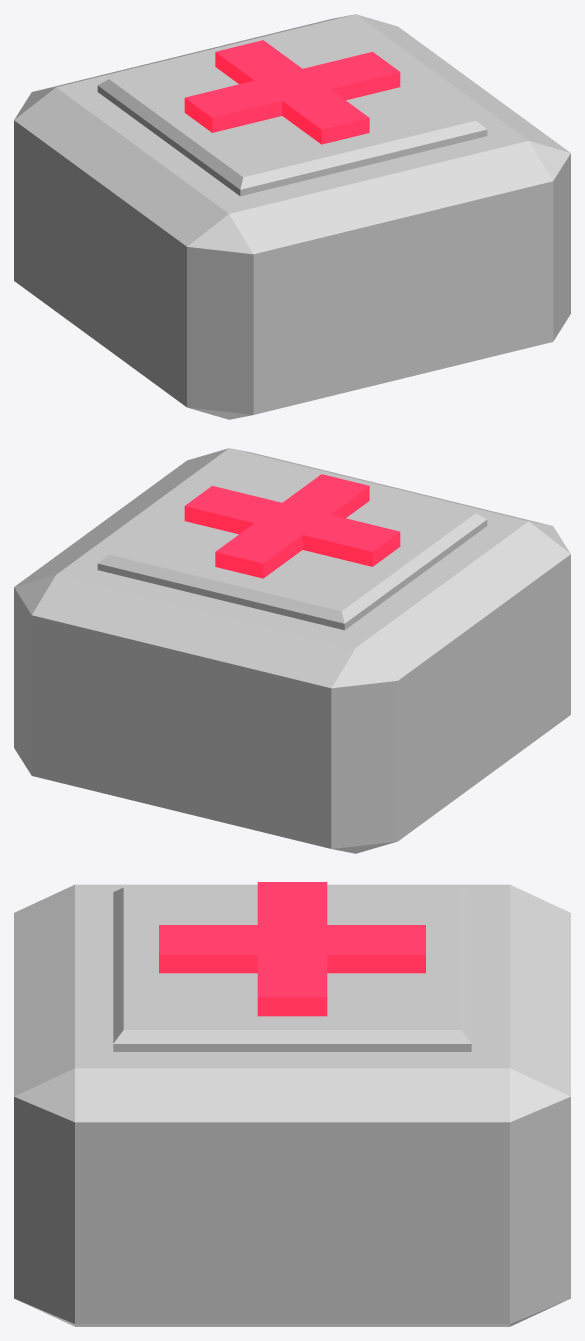
File: HealthPack.fbx
3 renders of one model, top to bottom at view 1: azimuth 30°, elevation 25°; view 2: azimuth 150°, elevation 25°; view 3: azimuth 270°, elevation 25°, orthographic. The views are drawn at different scales.
Parts seen in each view (by area): view 1: Cube, Cube.001; view 2: Cube, Cube.001; view 3: Cube, Cube.001.
Part boxes in pixels (x1,y1,x2,y2): Cube: (14,14,570,419); Cube.001: (184,40,400,144); Cube: (14,448,570,853); Cube.001: (184,474,400,578); Cube: (14,884,570,1326); Cube.001: (159,882,425,1016).
Bounding box in the file's own units: 356 × 208 × 356.
